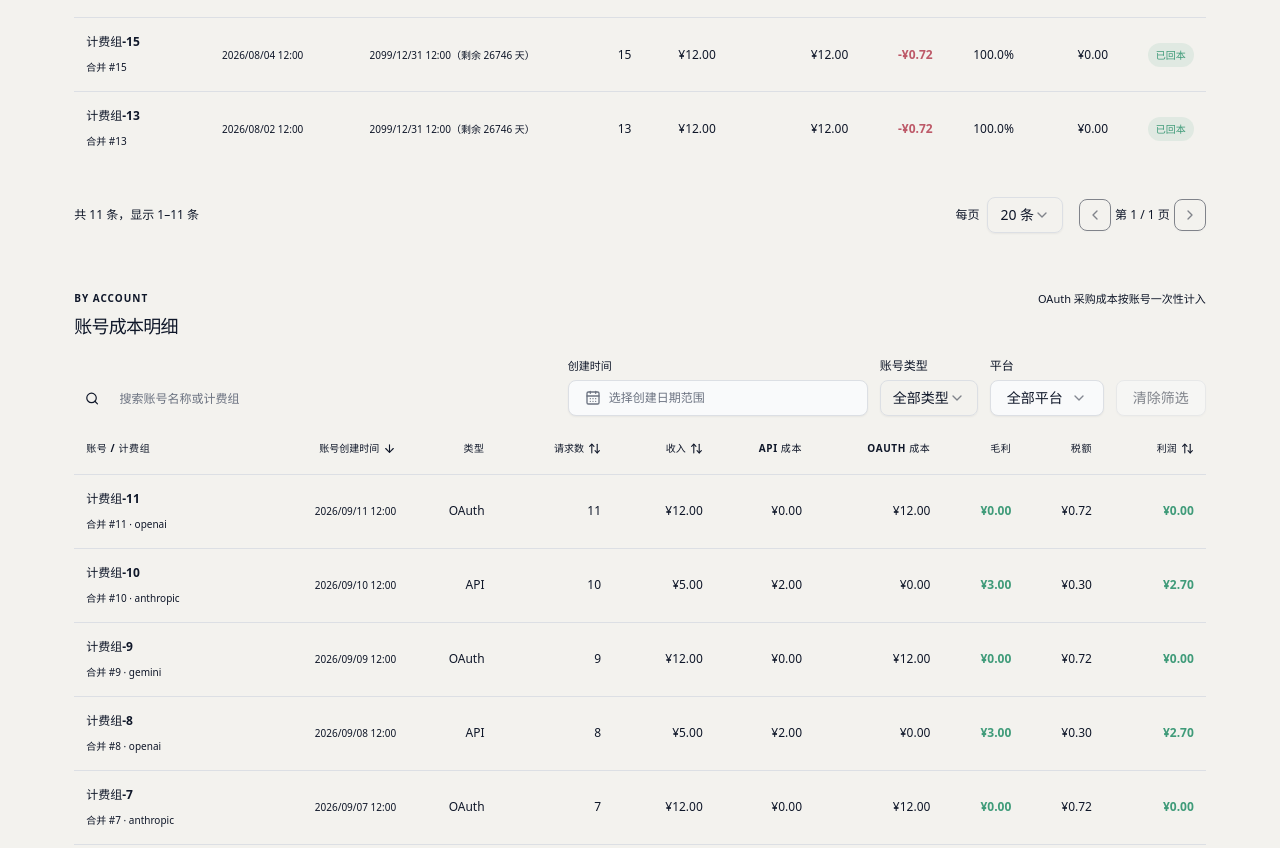
Test case: 消费核算 › 账号成本明细展示毛利和利润，并支持账号类型与平台筛选
The width and height of the screenshot is (1280, 848).
(page scrolled)
Expected: the column heading "毛利" is shown, [942,434,1023,474]
Expected: the button with aria-label "按利润排序" is shown, [1149,434,1202,462]
Press ArrowDown in the dropdown named "账号成本明细账号类型", box [880,380,978,416]
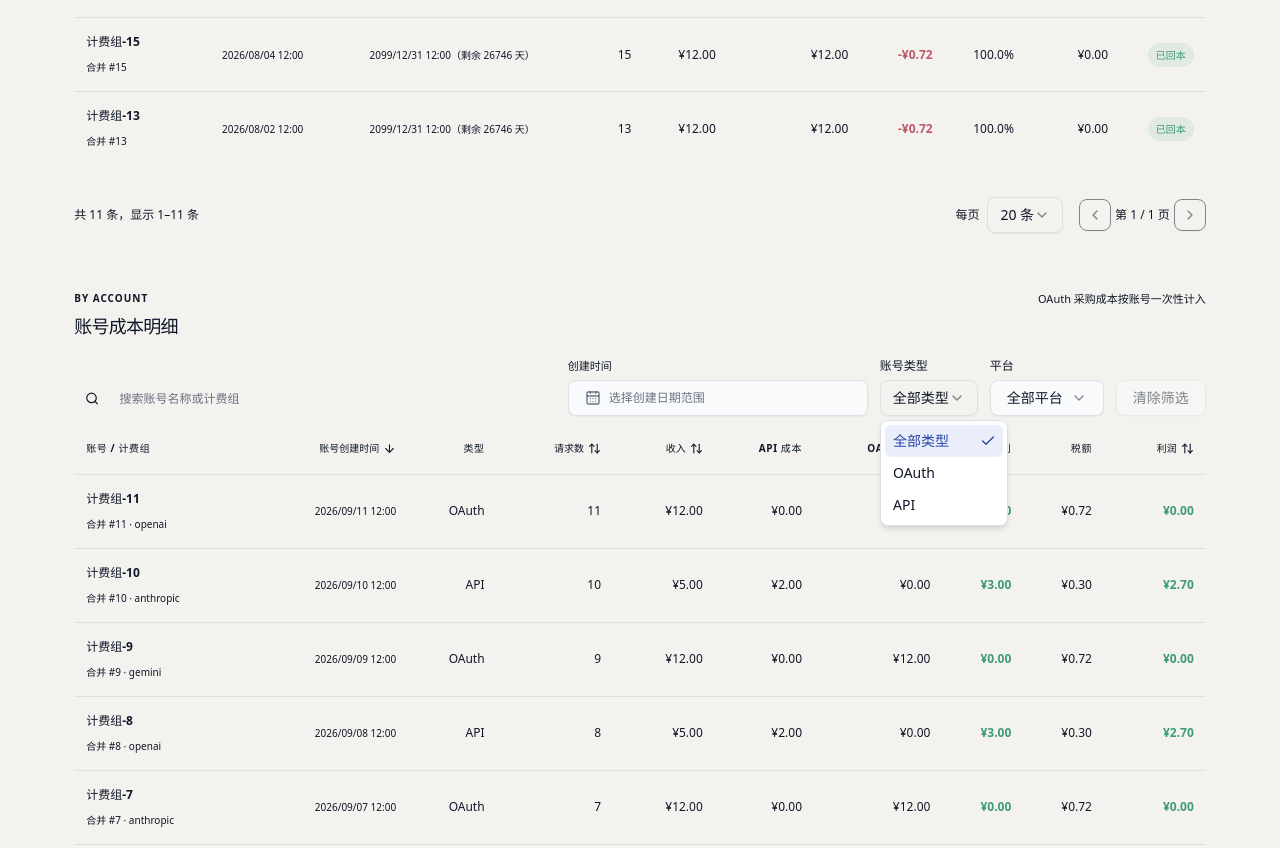
Click the option "API".
click(904, 504)  # box [893,495,915,514]
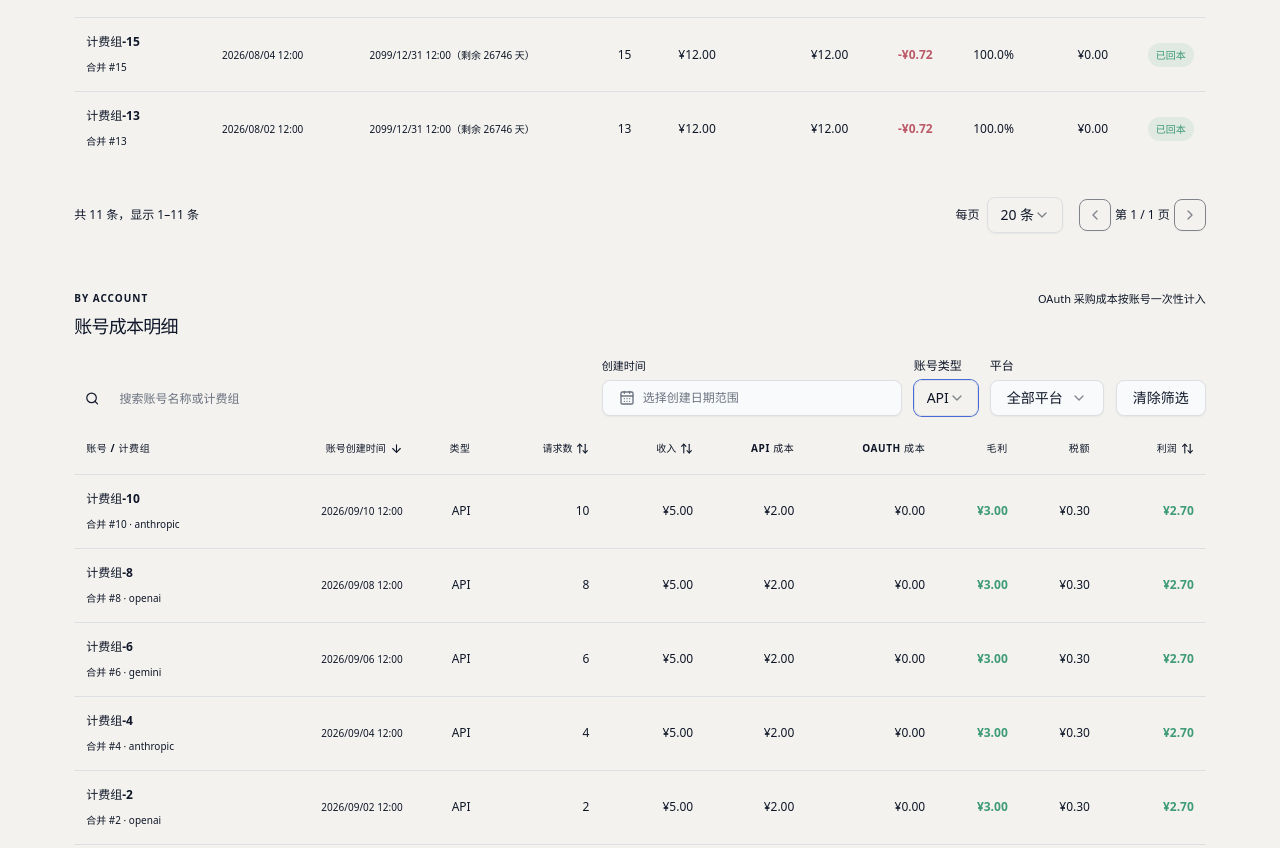
Expected: the text "计费组-2" is shown, [86,786,133,803]
Click the dropdown named "账号成本明细平台".
click(1047, 398)  # box [990,380,1104,416]
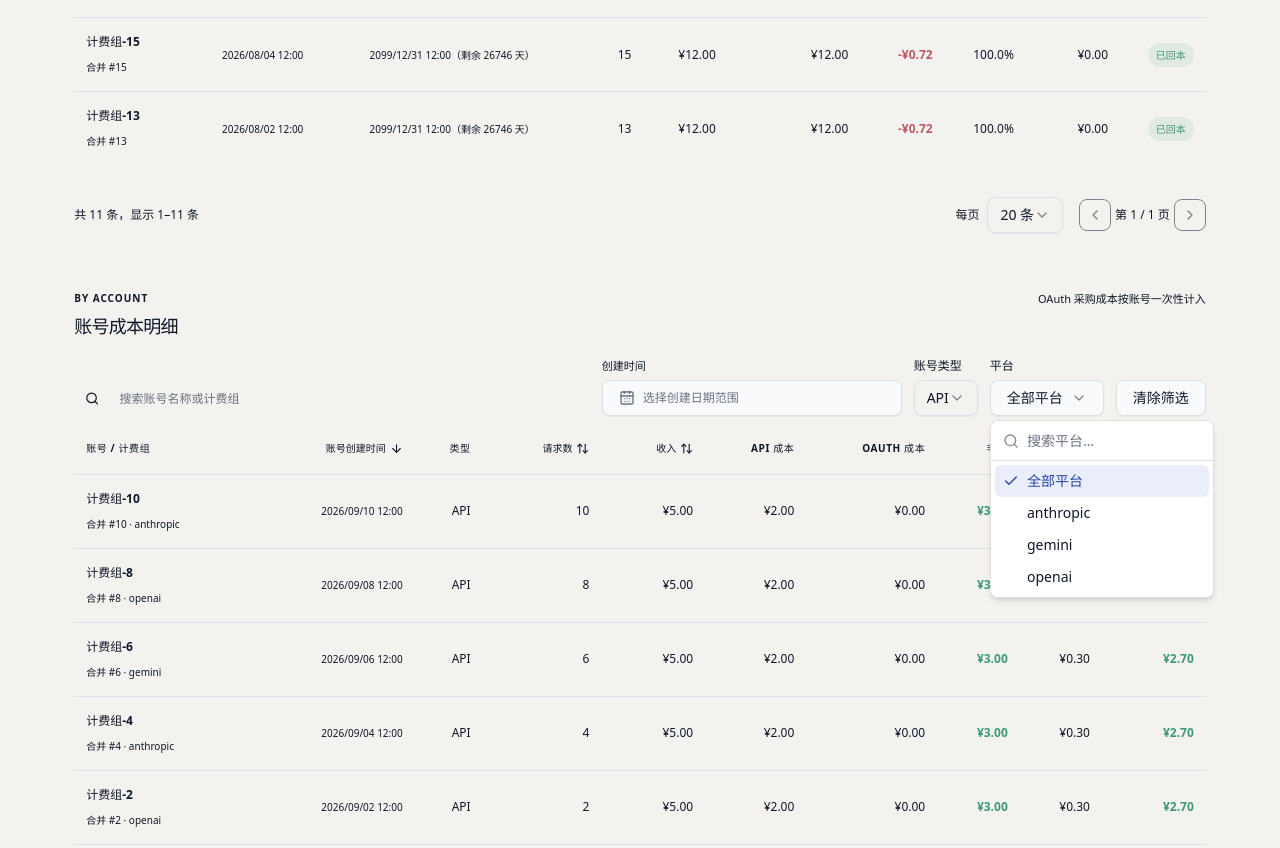
Click the option "anthropic".
click(1059, 512)  # box [1027,503,1090,522]
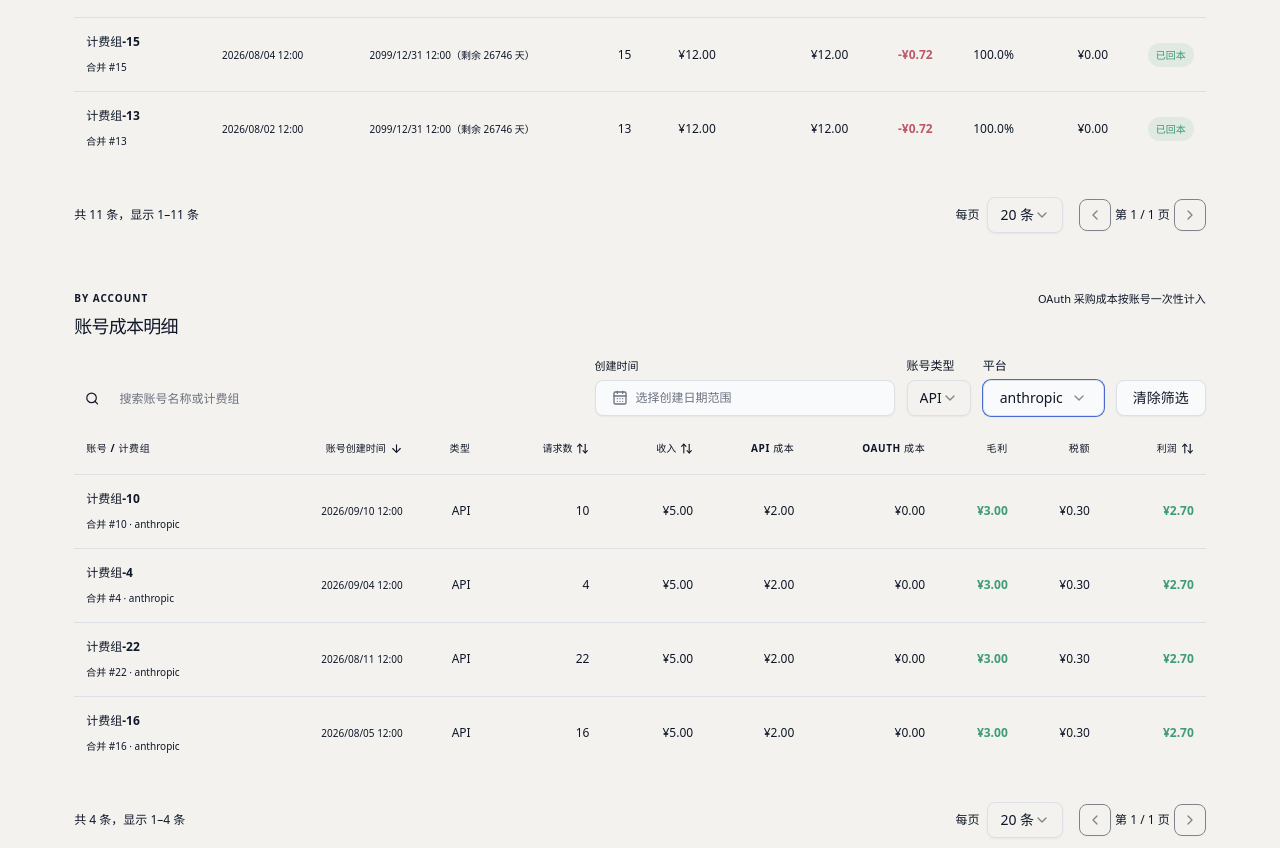
Expected: the text "计费组-4" is shown, [86,564,133,581]
Click the button "清除筛选".
click(1161, 398)  # box [1116,380,1206,416]
(page scrolled)
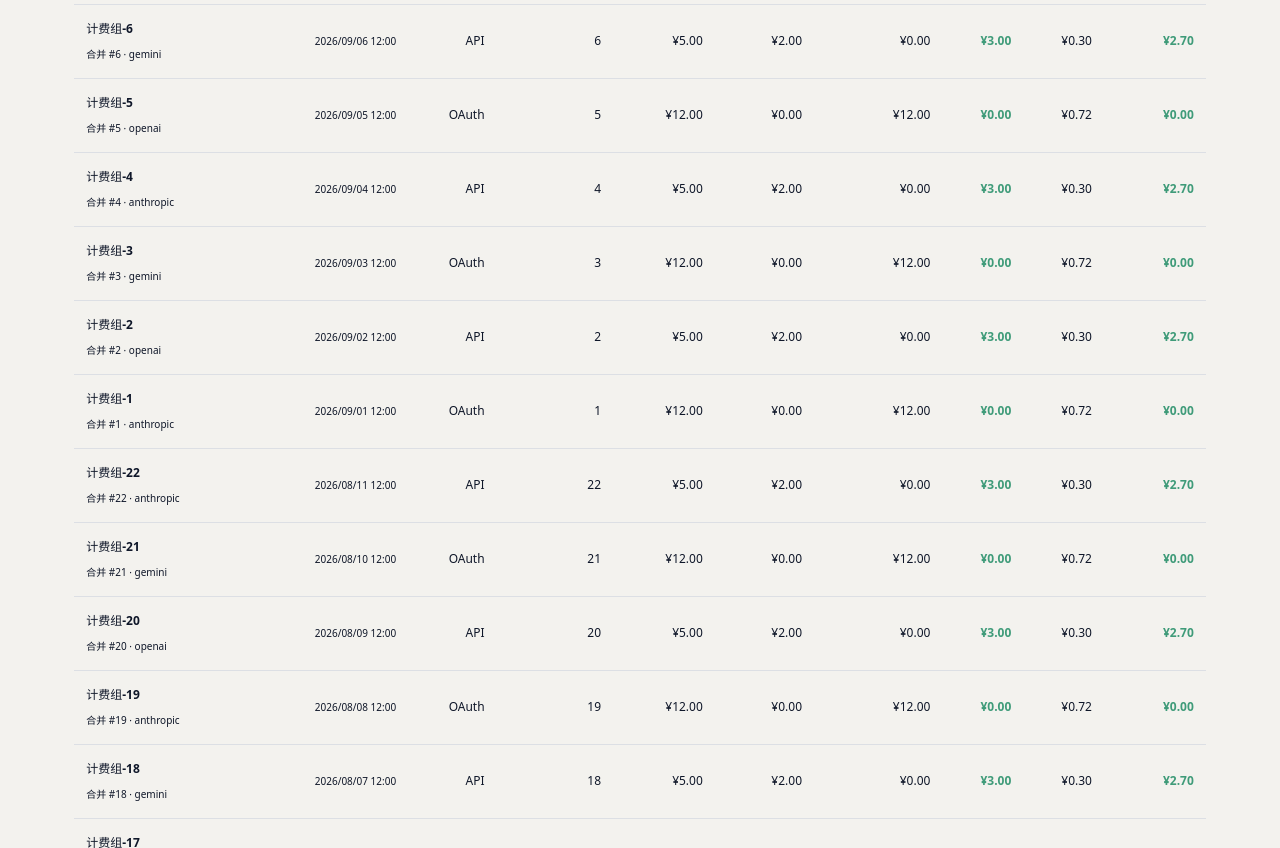
Expected: the text "计费组-1" is shown, [86,390,133,407]
